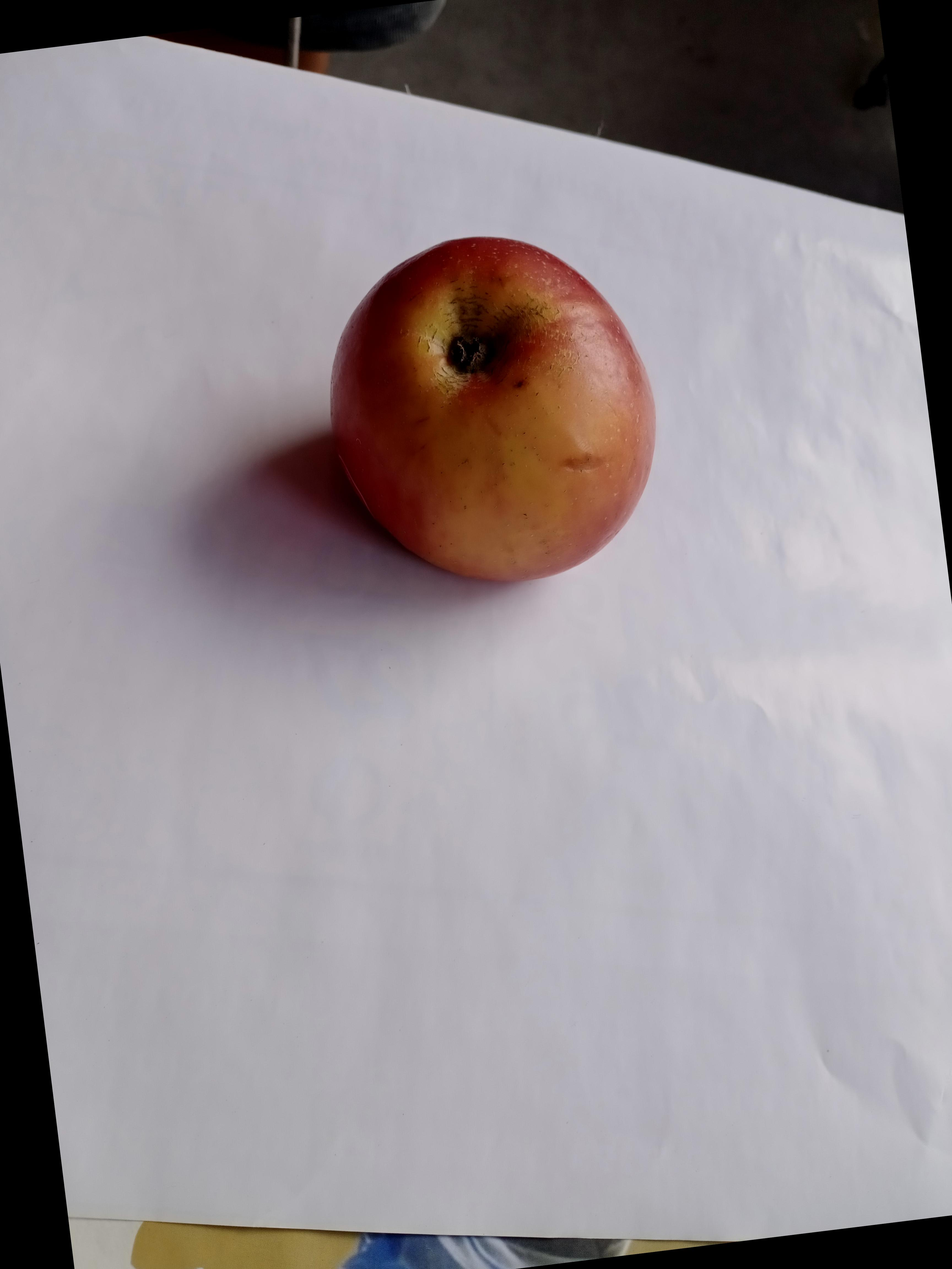Apple Ripe: (211, 279, 591, 699)
